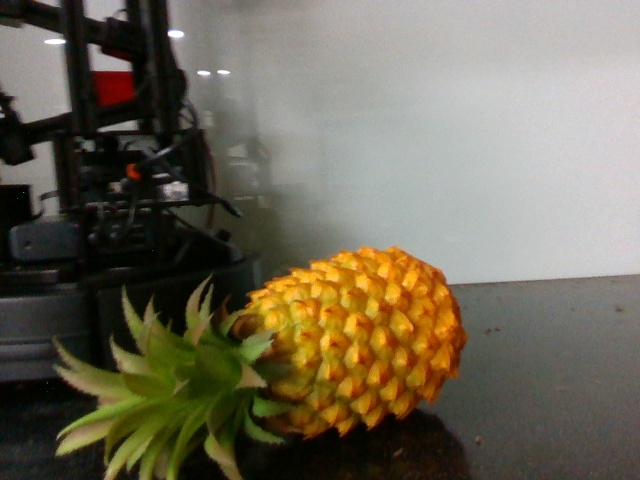pineapple: (60, 239, 468, 480)
